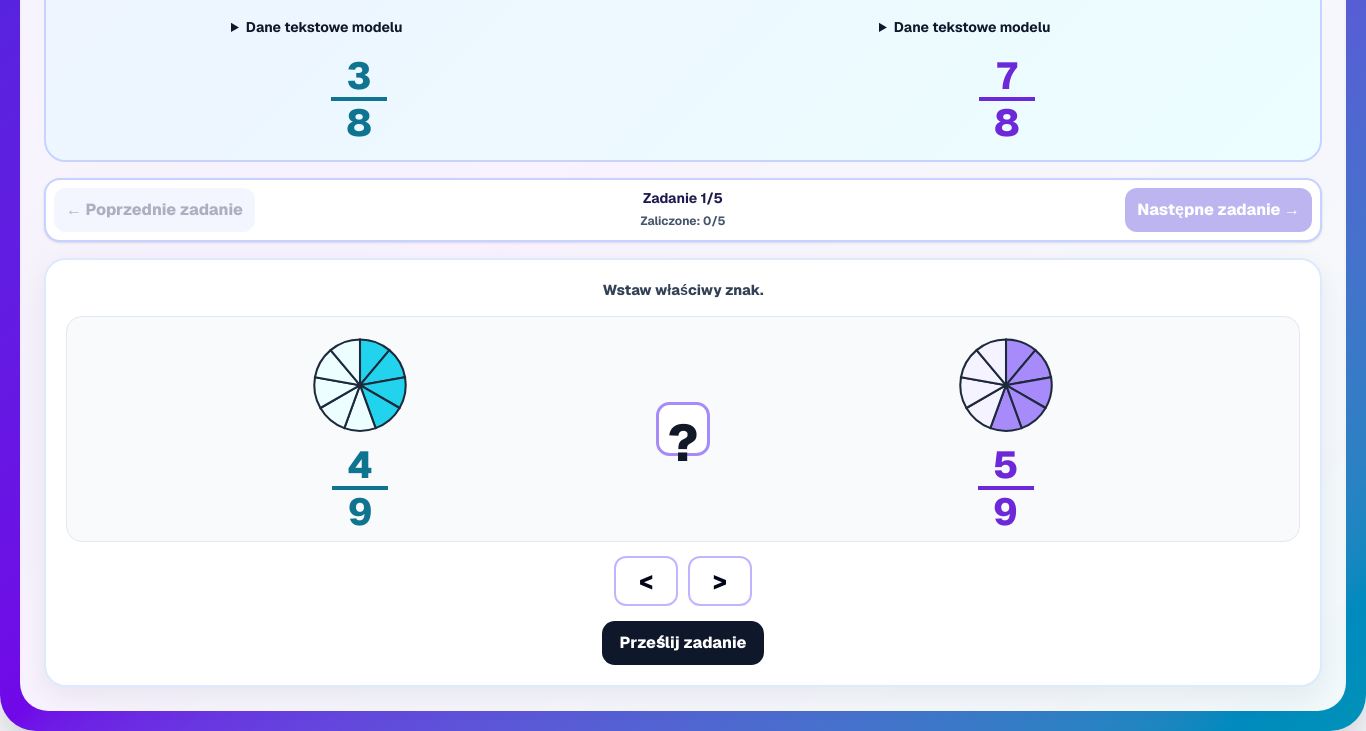
Test case: FractionComparisonLessonModel — modele, pionowy zapis, dotyk i diagnostyka › prowadzi zadania z jednakowymi mianownikami w jednej sekwencji
(page scrolled)
Check: the picture named "4 pokolorowanych części z 9" is shown, box [280,328,440,442]
Check: the button "Następne zadanie →" is disabled, box [1125,188,1312,232]
Click the button named "Wstaw znak <" at [646, 581], box [614,556,678,606]
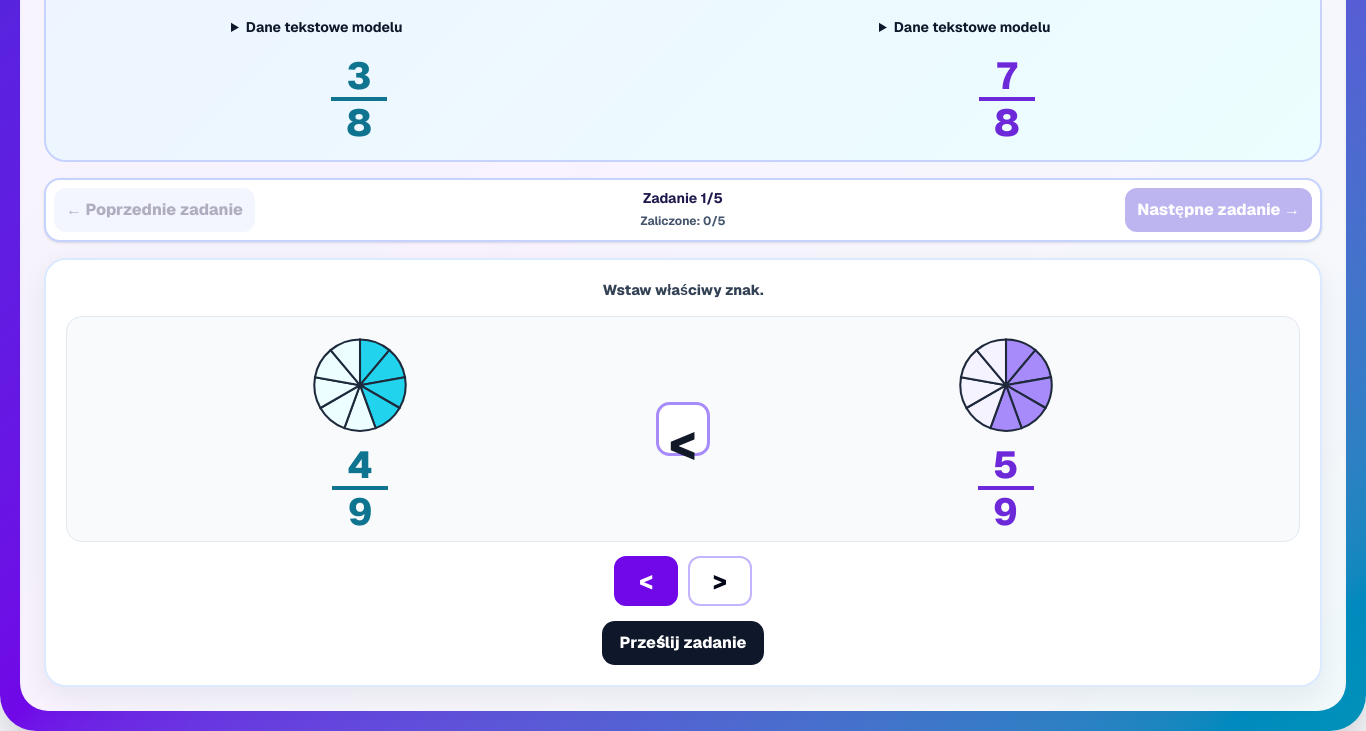
Click the button "Prześlij zadanie" at [683, 643], box [602,621,764,665]
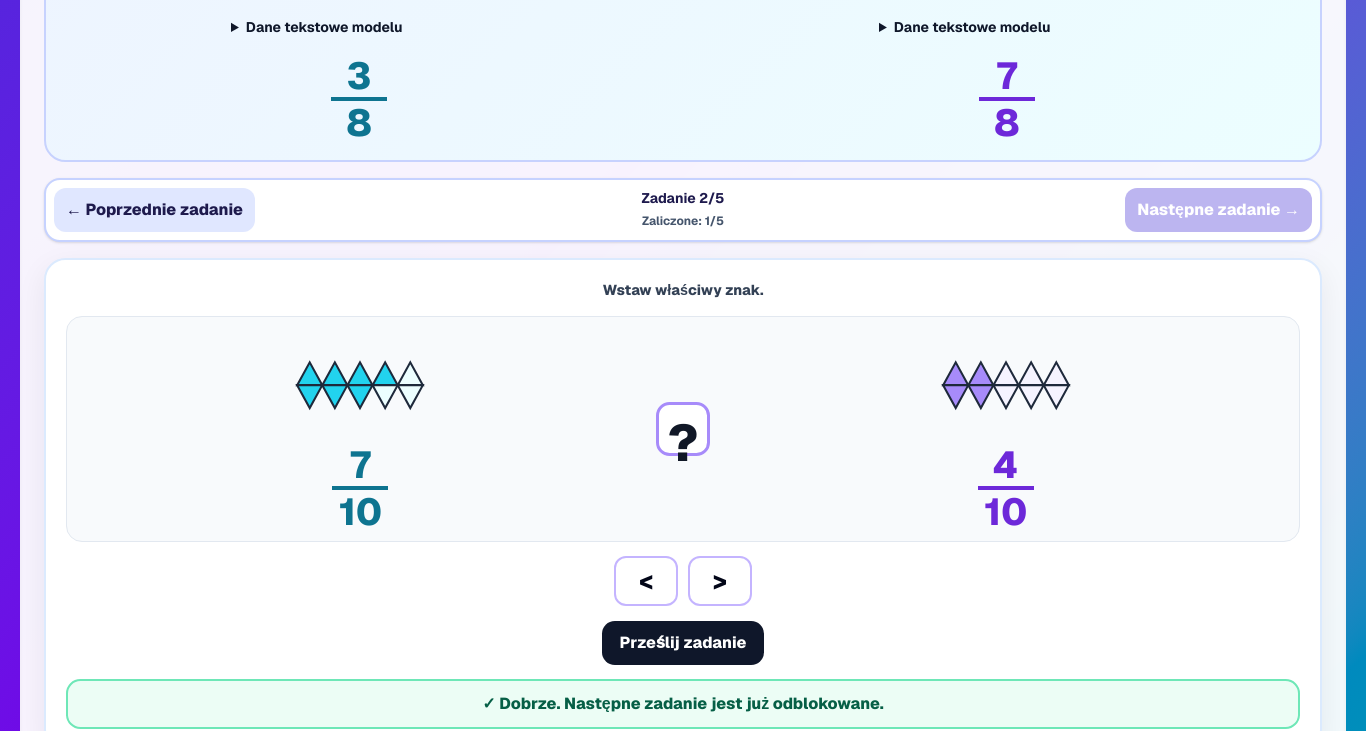
Check: the picture named "7 pokolorowanych części z 10" is shown, box [280,328,440,442]
Check: the message shows "Następne zadanie jest już odblokowane", box [499,693,884,714]
Check: the button "← Poprzednie zadanie" is enabled, box [54,188,255,232]
